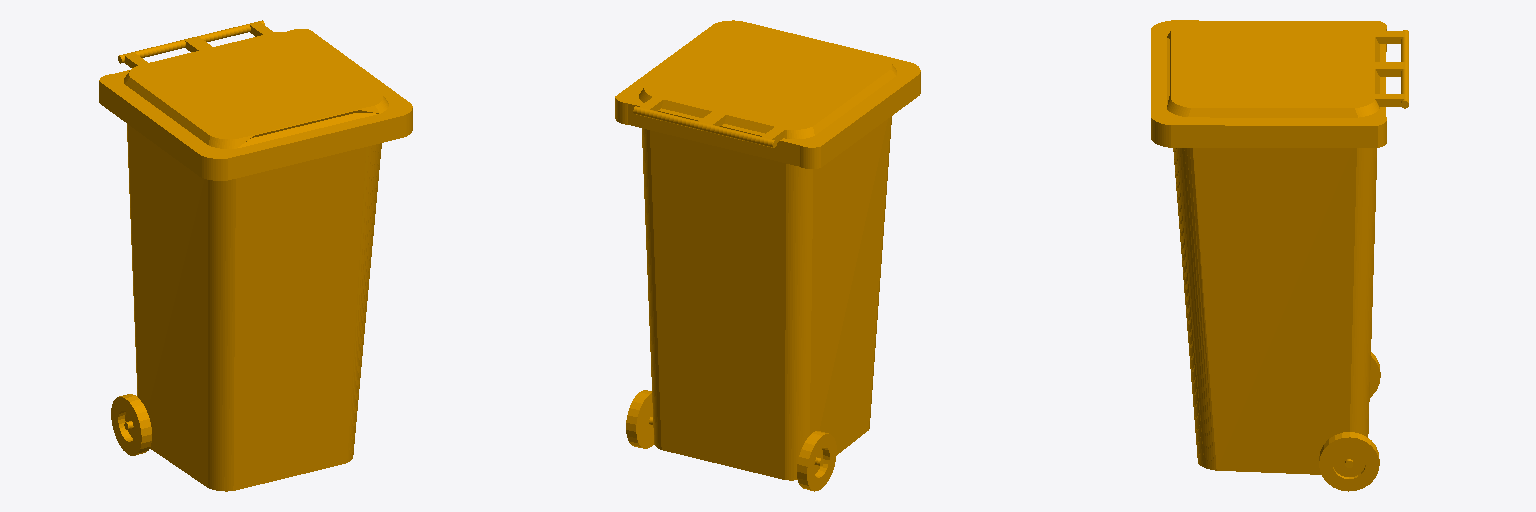
The robot description file, URDF, robot "none":
<robot name="none">
       <link name="none">
           <visual>
               <origin rpy="1.57 0 0" xyz="0 0 0" />
               <geometry>
                   <mesh filename="wheelie_bin.obj" />
               </geometry>
           </visual>
          <collision>
              <geometry>
                  <box size="0.591299 1.000000 0.615937" />
              </geometry>
          </collision>

          <inertial>
            <mass value="0.0" />
            <inertia ixx="0.0" ixy="0.0" ixz="0.0" iyy="0.0" iyz="0.0" izz="0.0" />
          </inertial>
      </link>
  </robot>

--- What the picture shows (computed from the rendered views, not written in the file) ---
Views: 3 orthographic renders of the robot side by side, from view 1: azimuth 30°, elevation 25°; view 2: azimuth 150°, elevation 25°; view 3: azimuth 270°, elevation 25°.
Robot: none — 1 links, 0 joints (none); root link none; default pose: all joints at 0.
Links seen in each view (by area): view 1: none; view 2: none; view 3: none.
Boxes of the visible links, x1,y1,x2,y2 form: none: (99, 20, 412, 491); none: (615, 20, 920, 491); none: (1151, 20, 1408, 491).
Bounding box of the posed robot: 0.5913 × 0.616 × 1 m (x, y, z).
1 mesh visuals loaded from 1 distinct referenced files (1 OBJ).